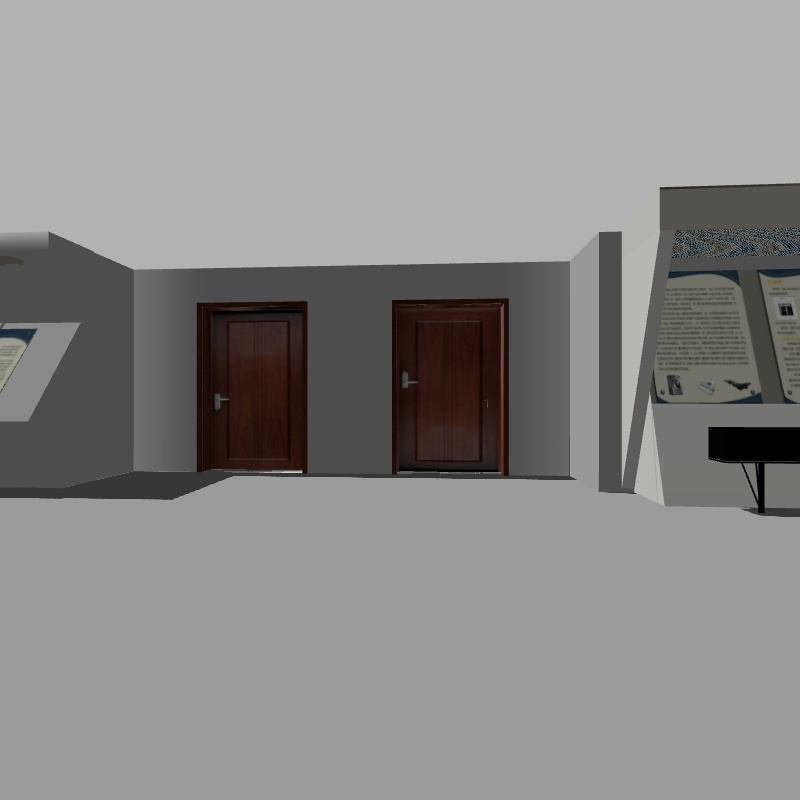handle: (205, 389, 230, 415), (396, 367, 421, 391)
